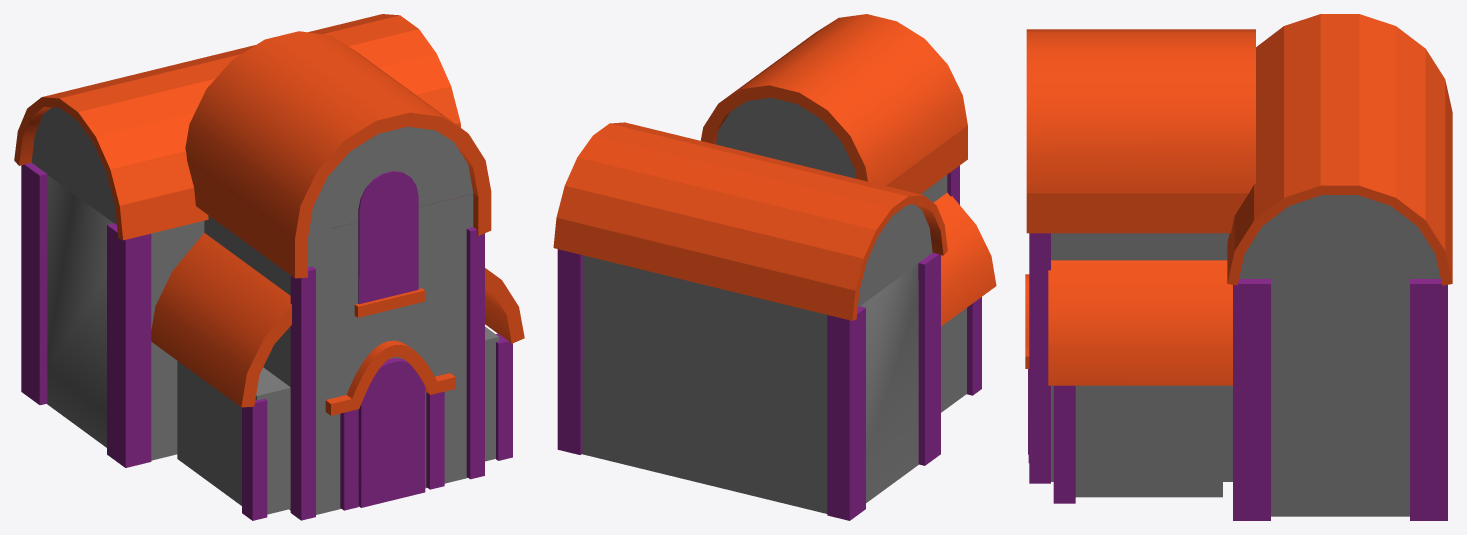
The model's file is SHop.fbx.
3 renders of one model, left to right at view 1: azimuth 30°, elevation 25°; view 2: azimuth 150°, elevation 25°; view 3: azimuth 270°, elevation 25°, orthographic. The views are drawn at different scales.
Parts seen in each view (by area): view 1: Box003, Door; view 2: Box003; view 3: Box003.
Part boxes in pixels (x1,y1,x2,y2): Box003: (14,14,524,520); Door: (358,358,425,507); Box003: (553,14,996,520); Box003: (1025,14,1452,520).
Size of the model in its own units: 1264 by 1362 by 1329.
